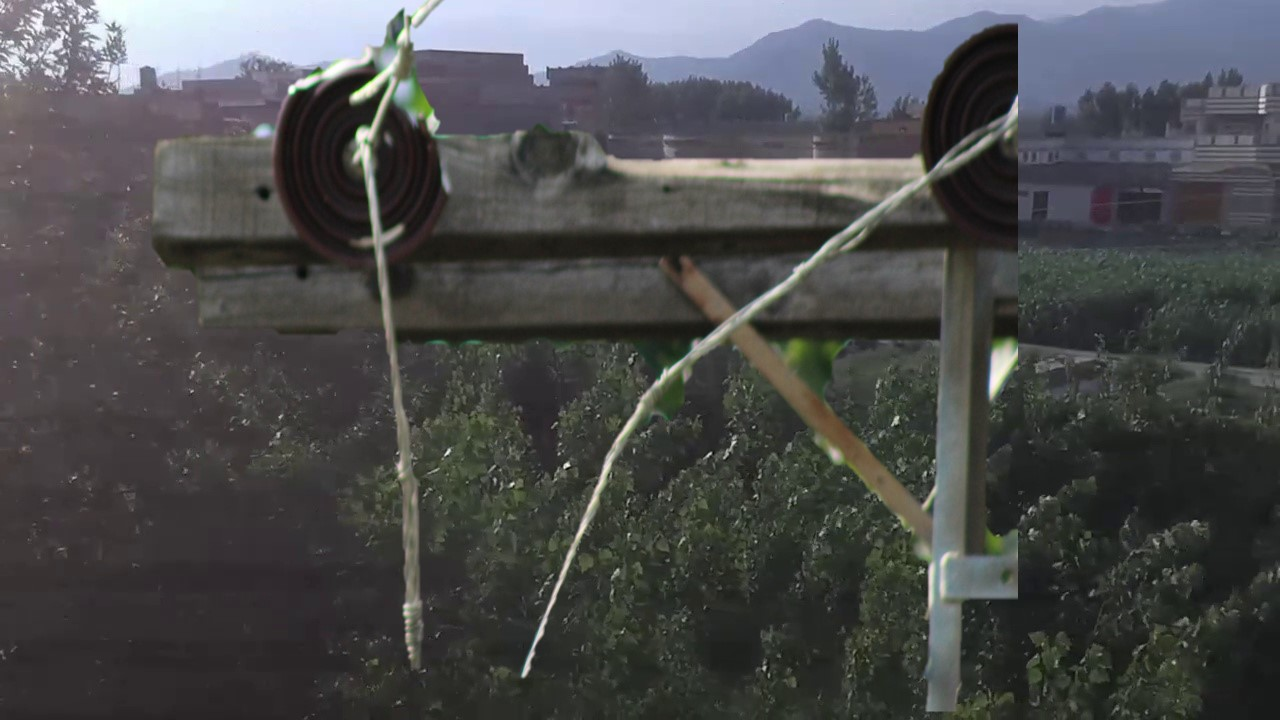defect_disc: (270, 45, 457, 278)
